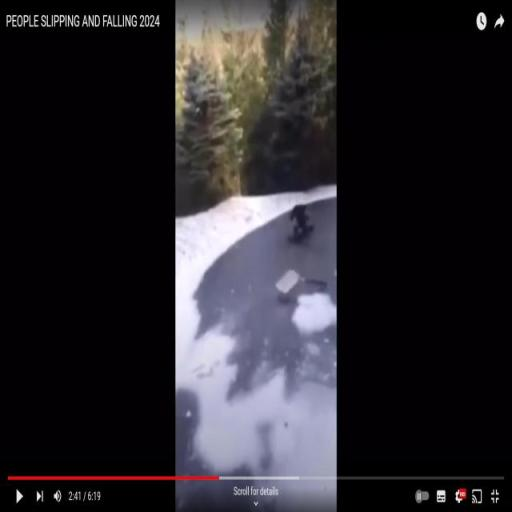Fall: (288, 199, 316, 245)
